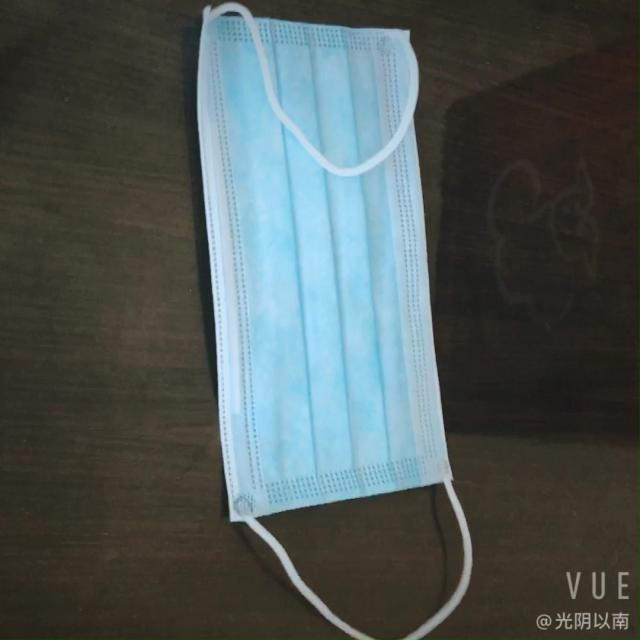non-organic waste: (165, 10, 458, 526)
